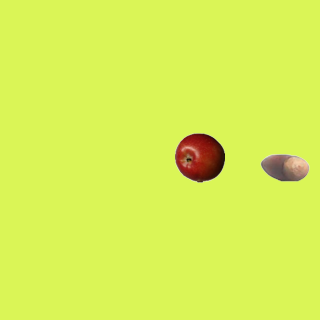Apple Braeburn: (174, 132, 224, 182)
Hazelnut: (259, 142, 309, 192)
